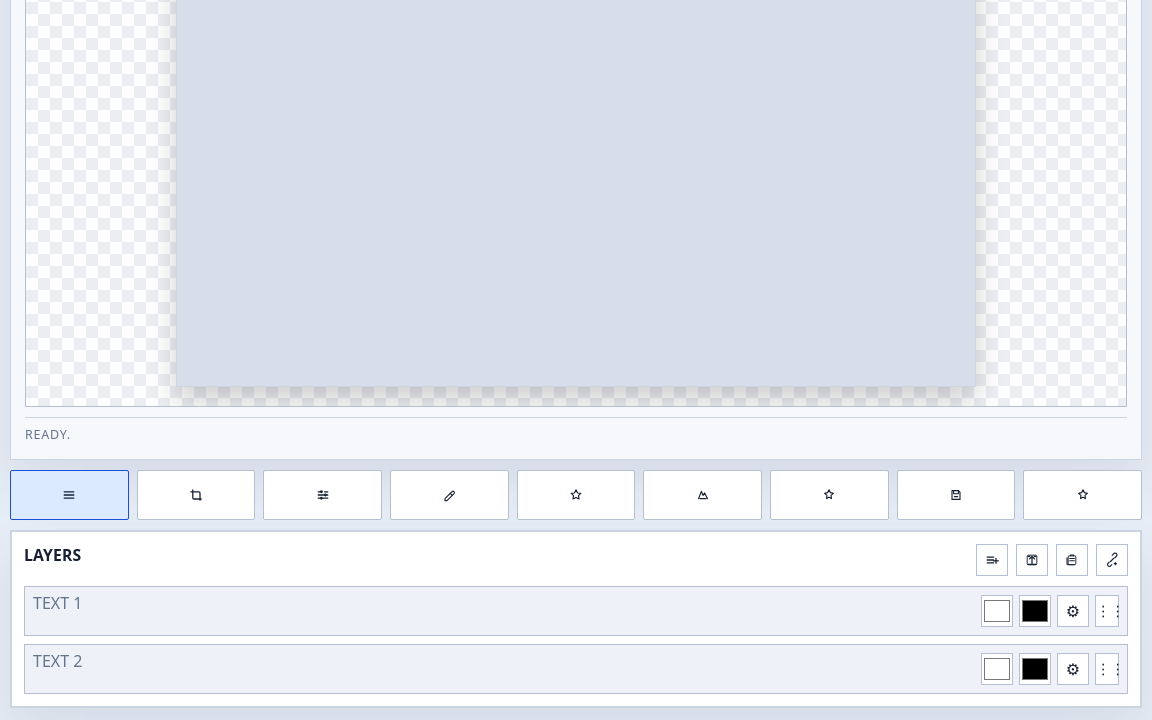
Test: App › shows recent saved work in the Saves tab and reopens it from browser-local storage
(page scrolled)
Click the tab named "saves".
click(956, 495)  # box [897,470,1015,520]
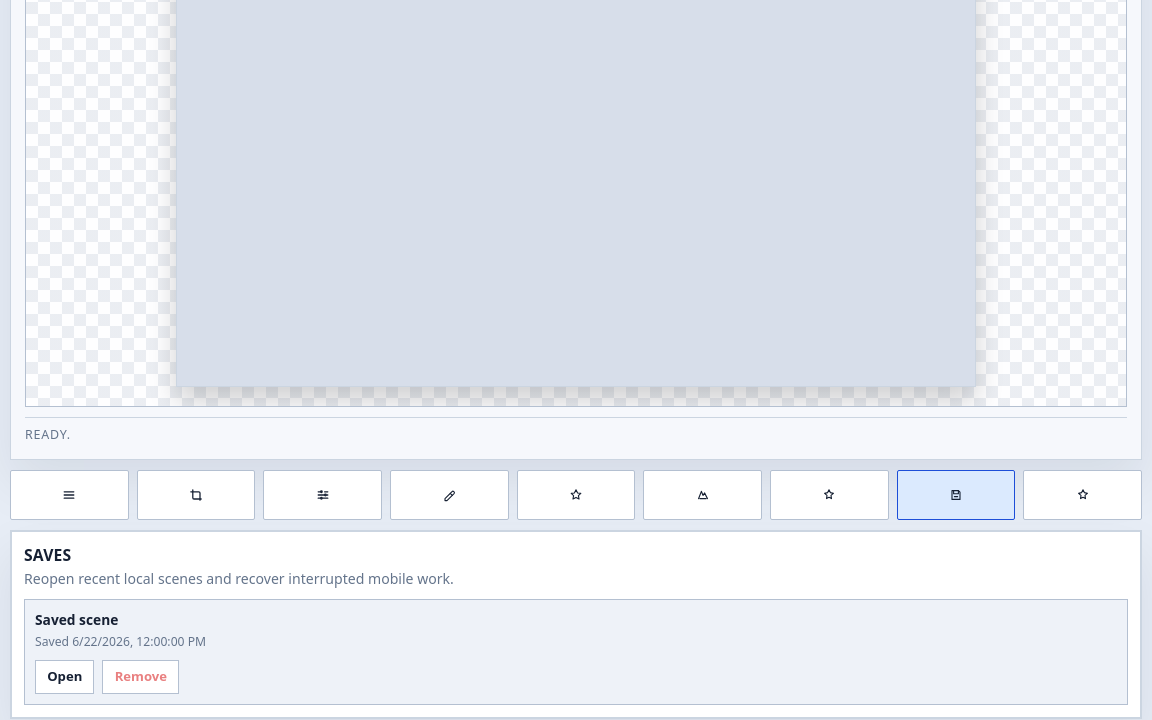
Result: the text "Saved scene" is shown at [35,610,118,629]
Click the button with aria-label "open saved scene".
click(65, 677)  # box [35,660,94,694]
(page scrolled)
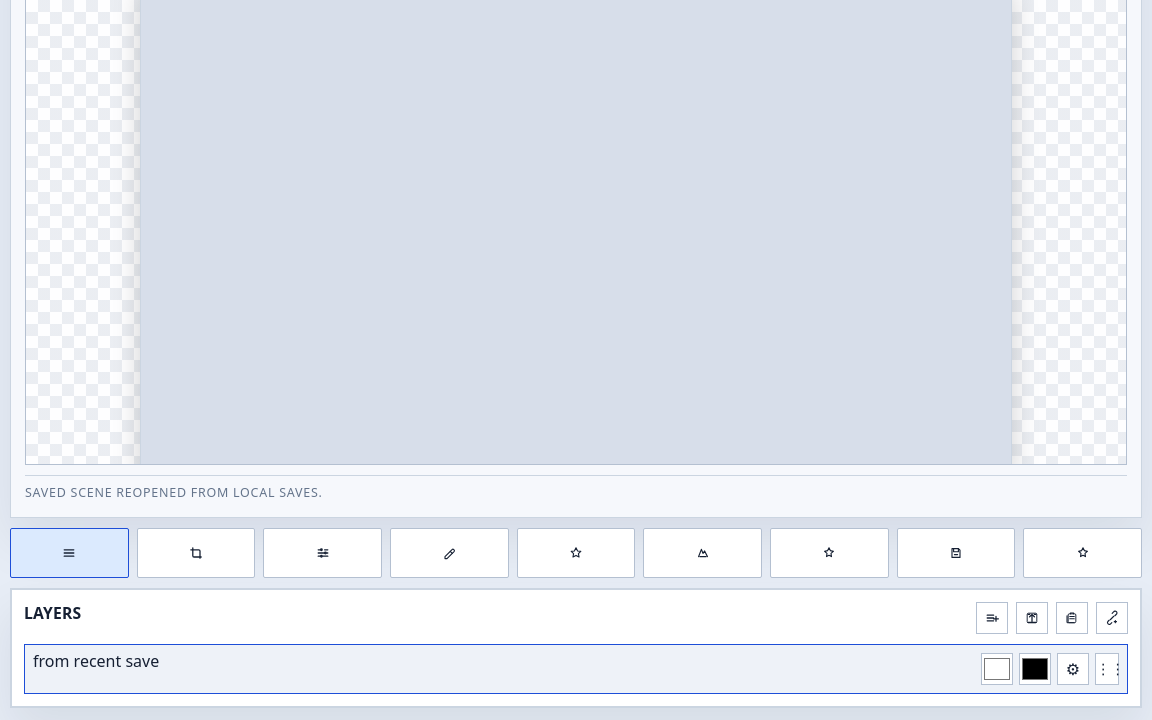
Result: the text box named "headline" holds "from recent save" at [33,653,973,685]
